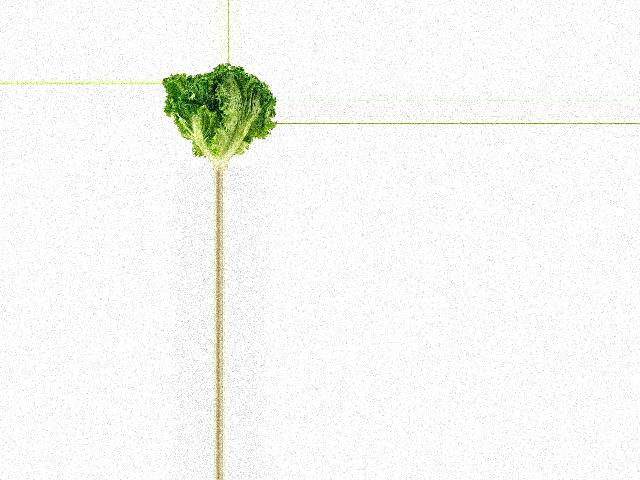lettuce: (163, 64, 276, 171)
